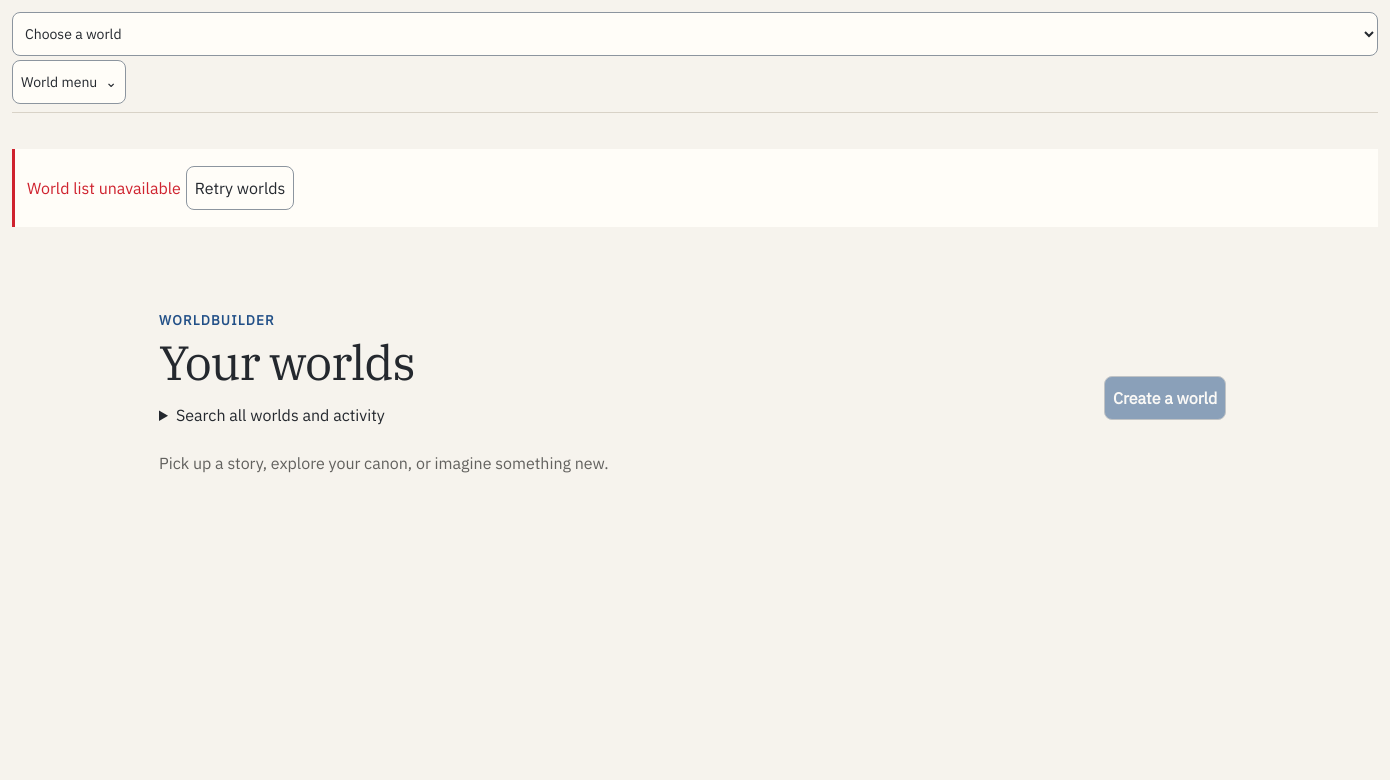
Test: Worldbuilder › keeps world-list failures distinct from an empty library and supports retry
Expected: the message shows "World list unavailable", [27,178,181,198]
Expected: the text "Your next story starts here" is not shown
Click the button "Retry worlds".
click(240, 188)  # box [186,166,294,210]
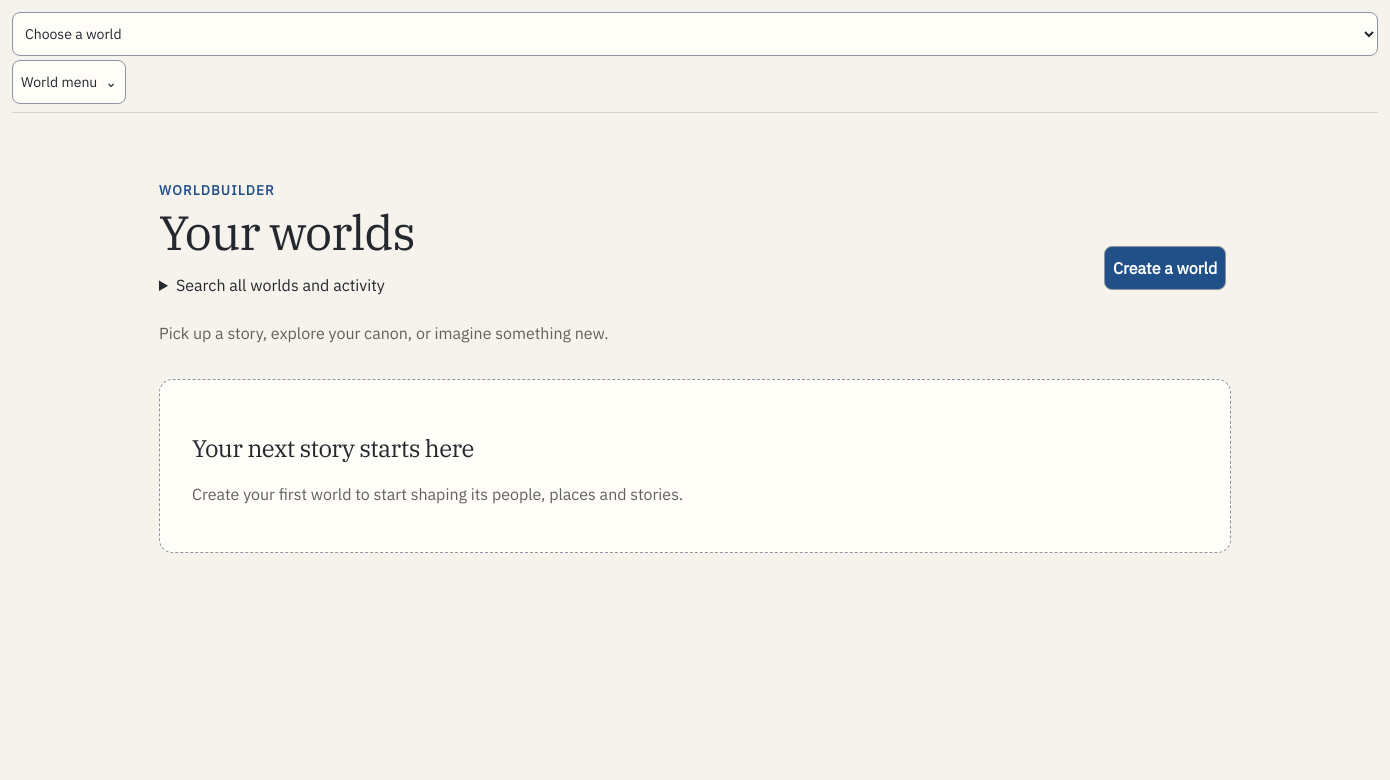
Expected: the heading "Your next story starts here" is shown, [192,432,474,464]
Expected: the button "Create a world" is enabled, [1104,246,1226,290]
